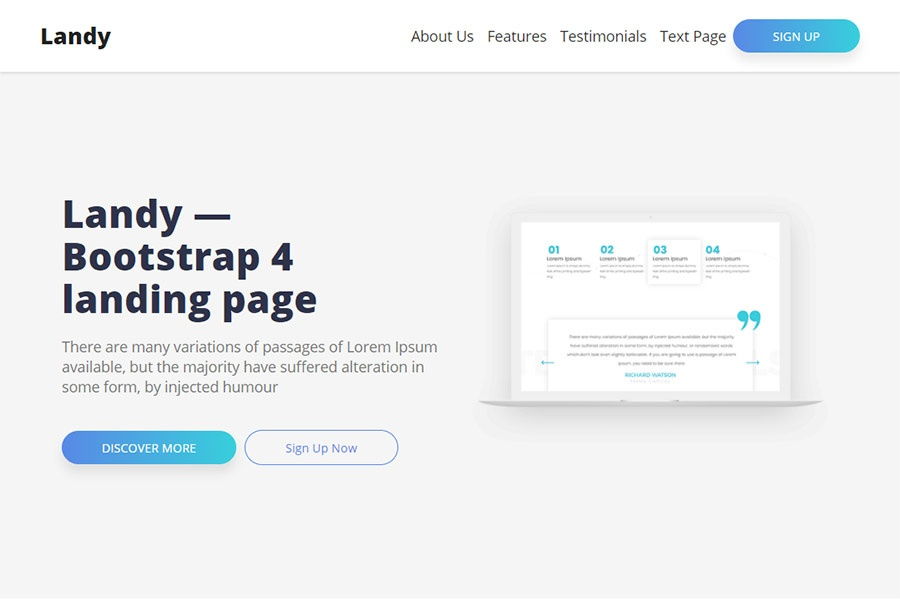button: (238, 424, 414, 477), (53, 425, 243, 473), (728, 13, 866, 64)
